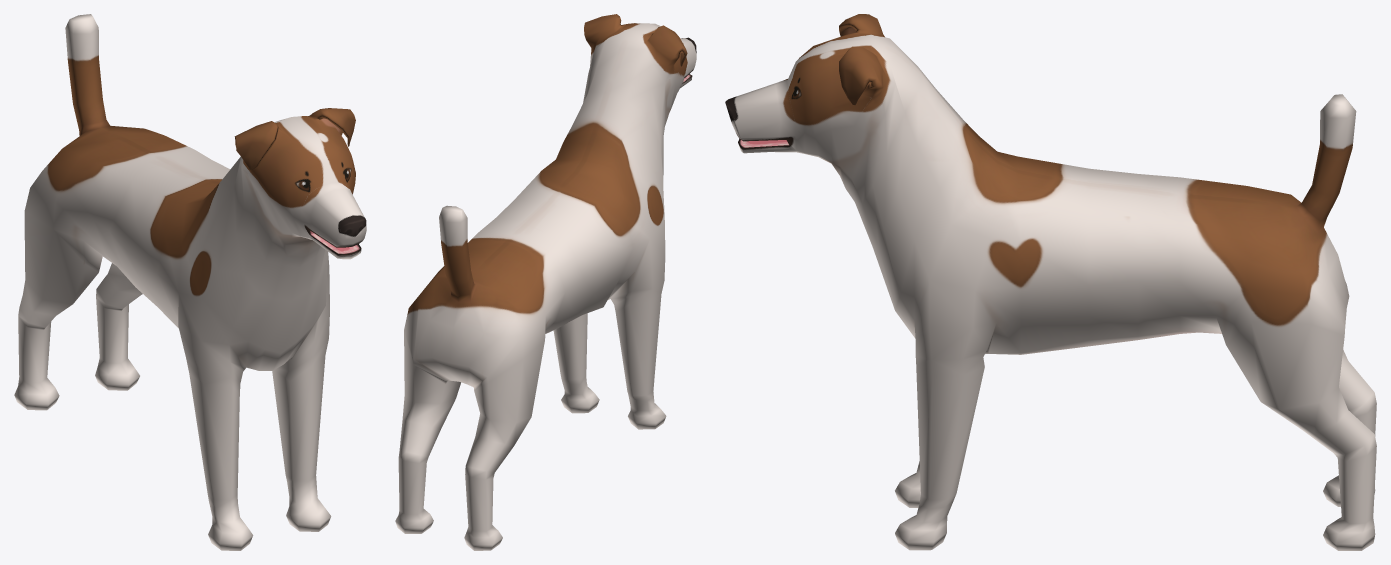
The model's file is BubblesRex_Resized.fbx.
The picture shows the model from 3 angles, left to right: view 1: azimuth 30°, elevation 25°; view 2: azimuth 150°, elevation 25°; view 3: azimuth 270°, elevation 25°; orthographic projection. The views are drawn at different scales.
Visible parts, largest first — view 1: jack_Jack_Russell_Model; view 2: jack_Jack_Russell_Model; view 3: jack_Jack_Russell_Model.
Part boxes in pixels (x1,y1,x2,y2): jack_Jack_Russell_Model: (14,14,366,550); jack_Jack_Russell_Model: (395,14,696,550); jack_Jack_Russell_Model: (725,14,1376,550).
Size of the model in its own units: 66.94 by 202 by 244.
